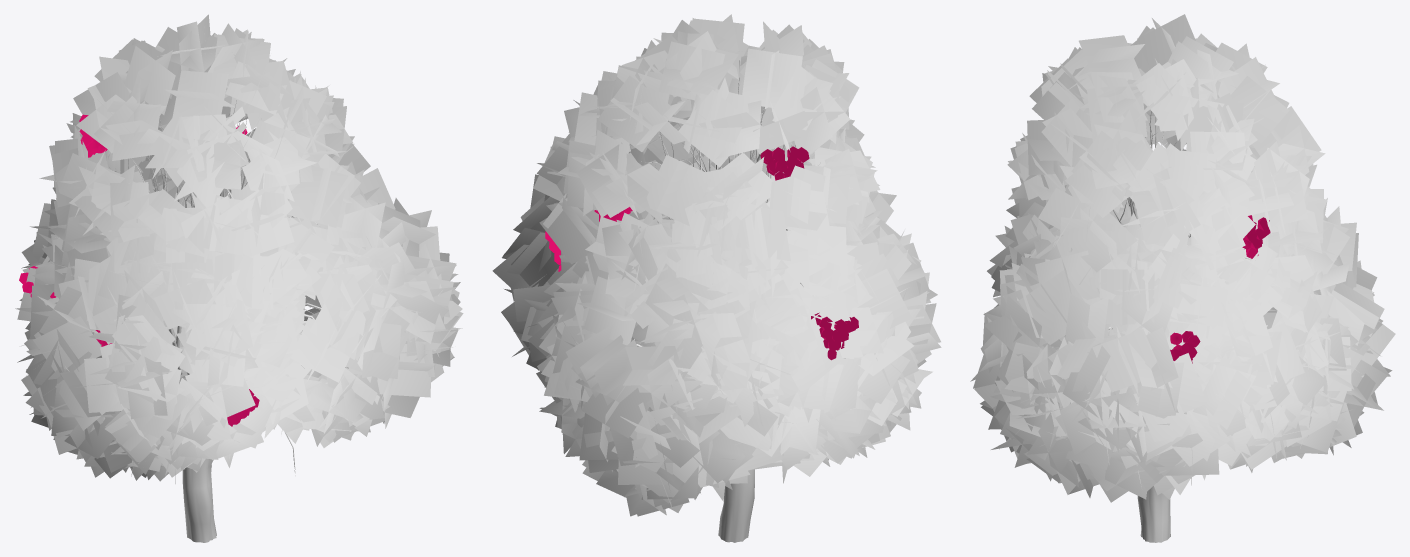
Rendered from Vigne.fbx.
The picture shows the model from 3 angles, left to right: view 1: azimuth 30°, elevation 25°; view 2: azimuth 150°, elevation 25°; view 3: azimuth 270°, elevation 25°; orthographic projection. The views are drawn at different scales.
Parts seen in each view (by area): view 1: VigneLeaf2, VigneTrunk; view 2: VigneLeaf2, VigneTrunk, Grape.003, Grape.002; view 3: VigneLeaf2, VigneTrunk, Grape.004, Grape.
Part boxes in pixels (<box>): VigneLeaf2: <box>15,14,463,481</box>; VigneTrunk: <box>58,100,321,542</box>; VigneLeaf2: <box>492,14,941,516</box>; VigneTrunk: <box>634,60,814,542</box>; Grape.003: <box>760,146,809,180</box>; Grape.002: <box>811,312,858,360</box>; VigneLeaf2: <box>970,14,1395,502</box>; VigneTrunk: <box>1108,111,1252,542</box>; Grape.004: <box>1242,215,1270,258</box>; Grape: <box>1170,331,1200,363</box>.
Size of the model in its own units: 3586 by 4273 by 3257.
